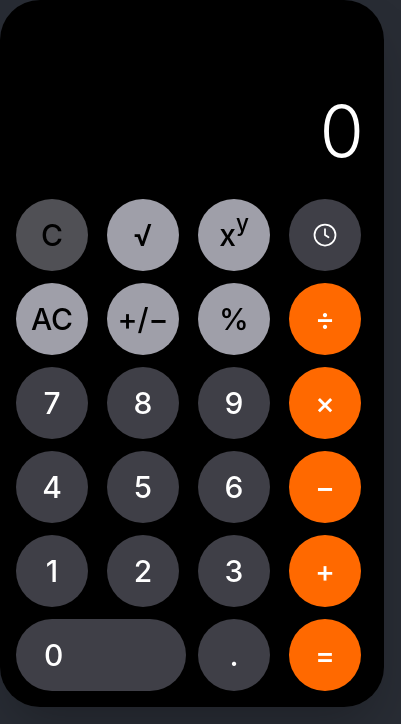
Calculator › computes an exponent via the x^y button
The width and height of the screenshot is (401, 724).
Click the button "2".
click(143, 570)  # box [107,534,179,606]
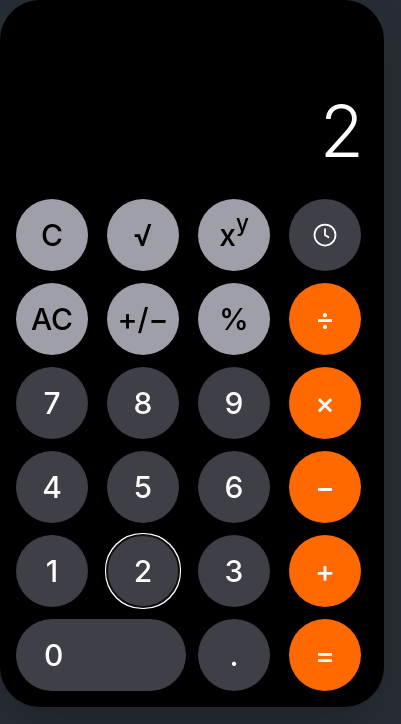
Click the button named "xy".
click(234, 234)  # box [198,198,270,270]
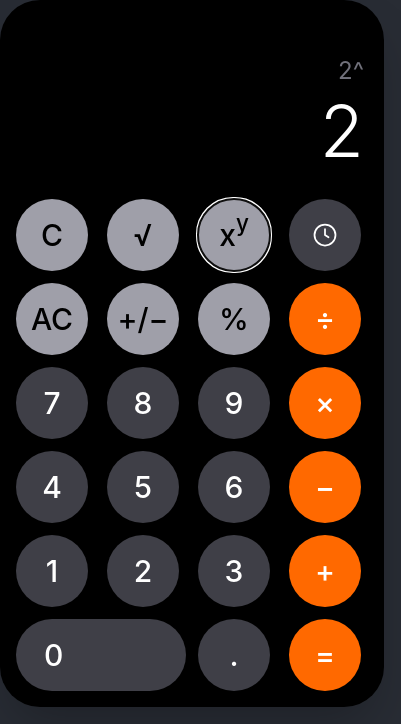
Click the button "5".
click(143, 486)  # box [107,450,179,522]
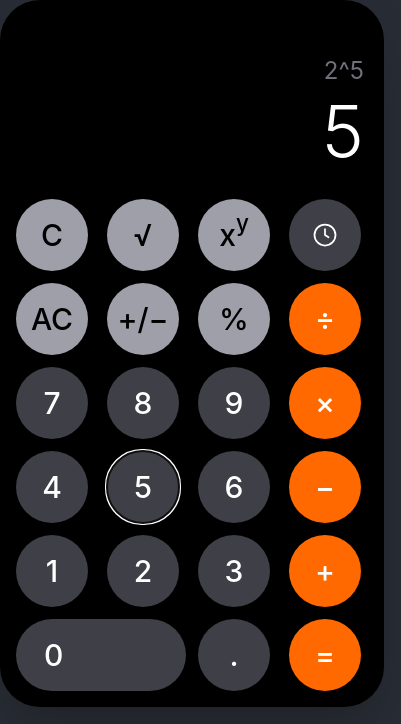
Click the button "=".
click(325, 654)  # box [289,618,361,690]
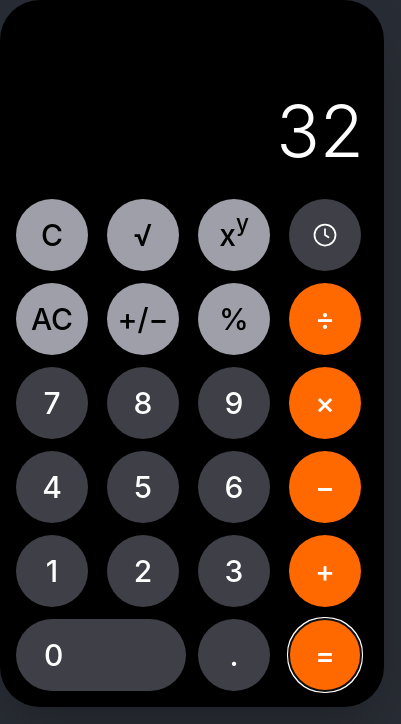
Expected: the text with test id "display" reads "32", [276,86,364,166]
